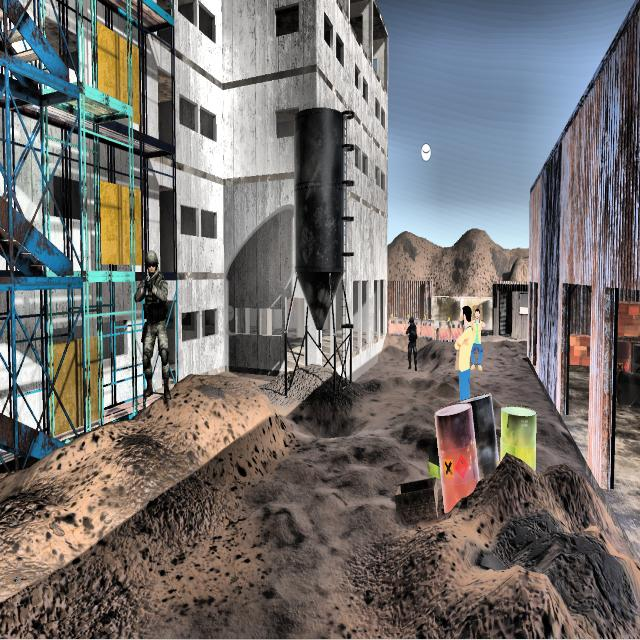bad: (130, 245, 179, 414), (402, 311, 418, 376)
good: (450, 303, 470, 404), (473, 305, 486, 377)
